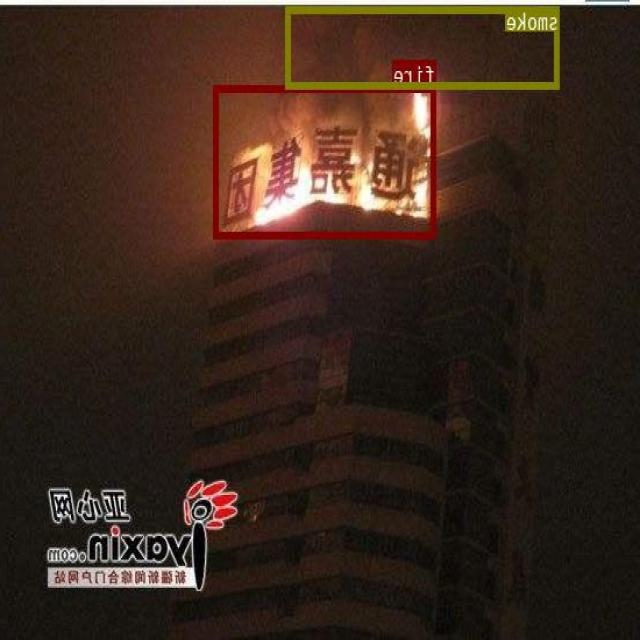fire: (215, 84, 437, 237)
smoke: (286, 5, 560, 88)
